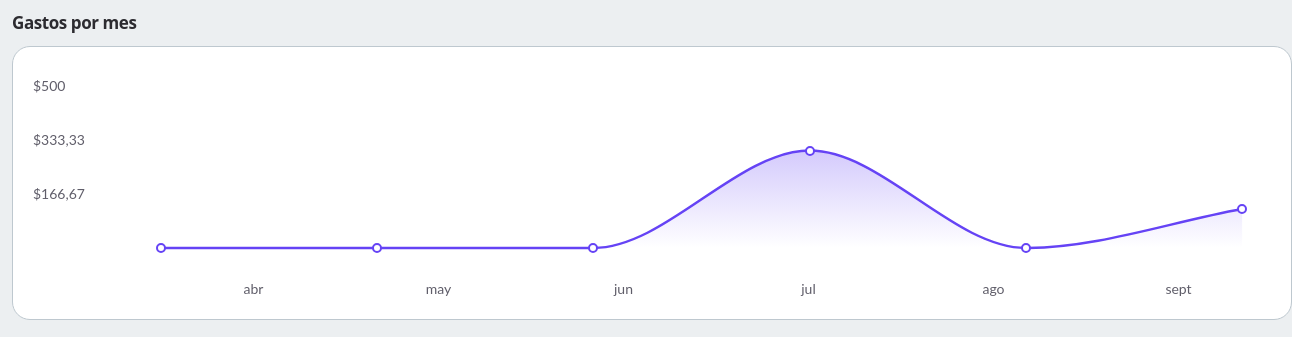
it: MonthlyTotalsChart › swaps the tooltip to a different bar when another one is tapped
Click the button named "jul: $300" at (755, 171), box x1=652 y1=67 x2=858 y2=275
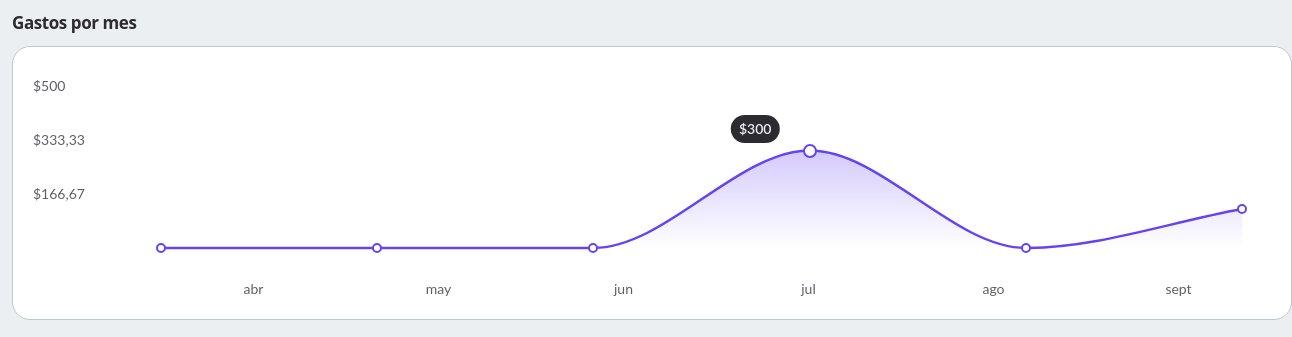
Expected: the tooltip reads "$300", x1=739 y1=120 x2=771 y2=137
Click the button named "sept: $120" at (1168, 171), box x1=1065 y1=67 x2=1271 y2=275
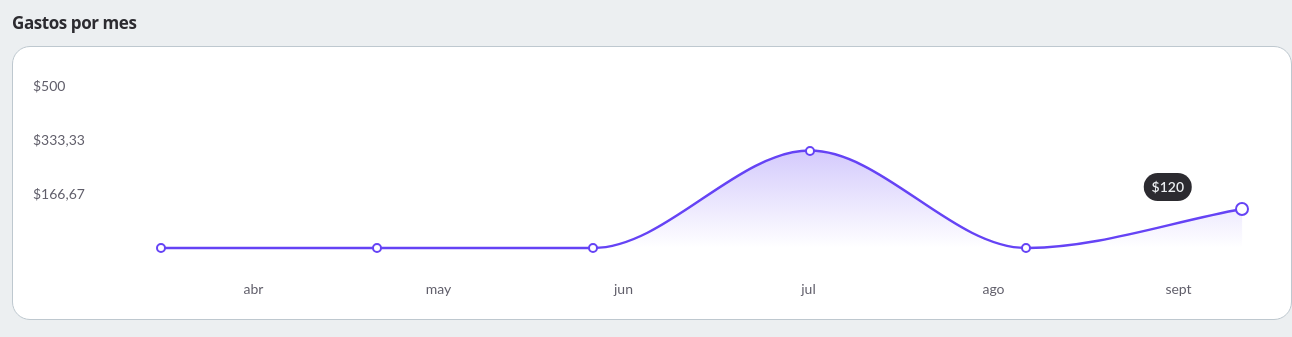
Expected: the number of tooltips is 1, x1=1144 y1=173 x2=1192 y2=201
Expected: the tooltip reads "$120", x1=1152 y1=178 x2=1184 y2=195
Expected: the button named "jul: $300" is collapsed, x1=652 y1=67 x2=858 y2=275
